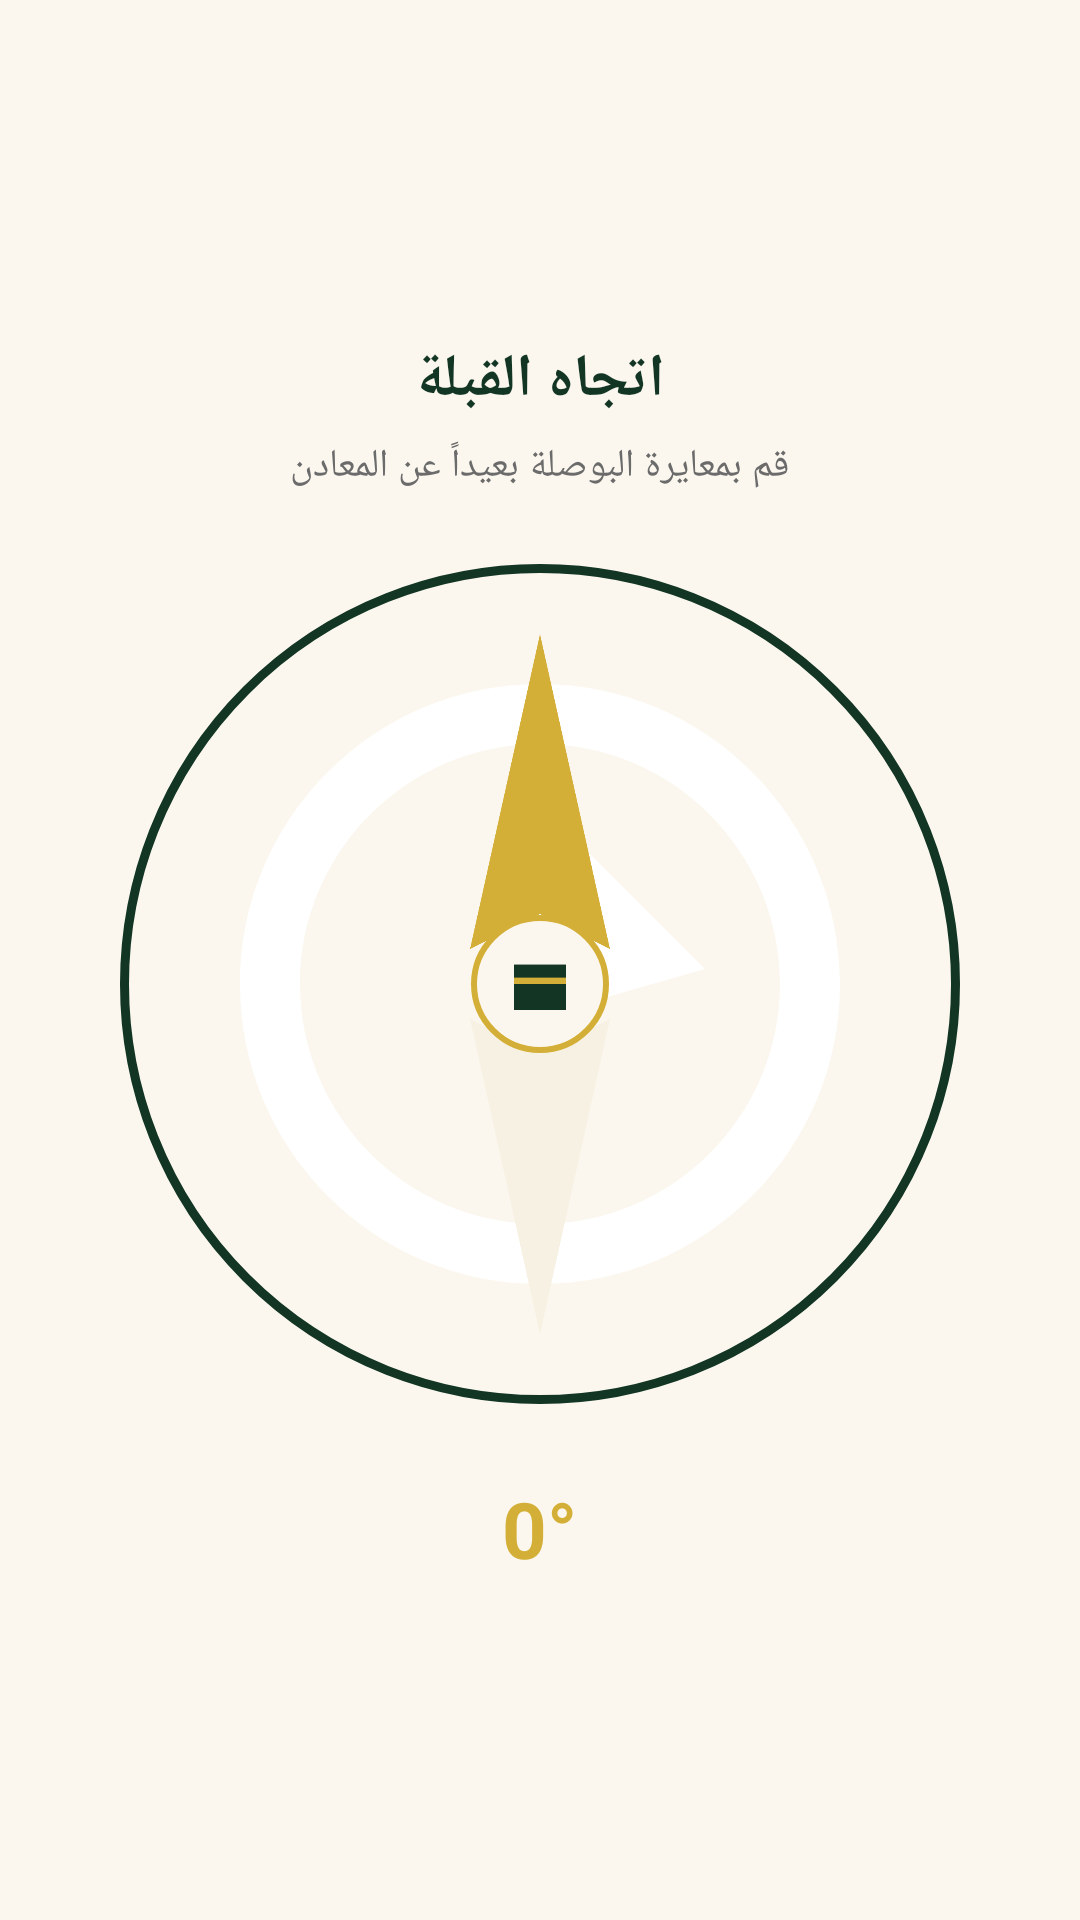

Icon click points for this 1080px x 1920px phone screenshot, format [x,y]:
kaaba: [540,987]
